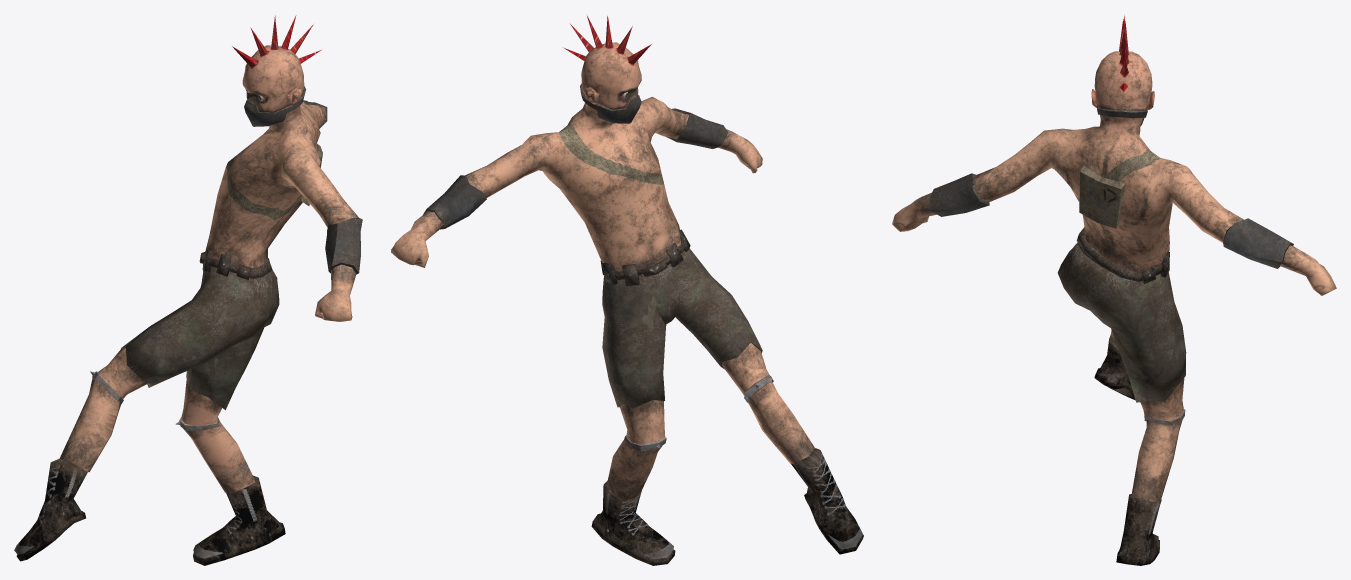
Rendered from Anim_ataque_f3_npc2.0034.obj.
3 views of the same model, side by side, from view 1: azimuth 30°, elevation 25°; view 2: azimuth 150°, elevation 25°; view 3: azimuth 270°, elevation 25° (orthographic). The views are drawn at different scales.
Parts seen in each view (by area): view 1: polySurface1; view 2: polySurface1; view 3: polySurface1.
Boxes of the visible parts, x1,y1,x2,y2 form: polySurface1: (14,15,362,565); polySurface1: (391,14,863,565); polySurface1: (892,14,1336,565).
Bounding box in the file's own units: 7.34 × 9.88 × 7.14.
